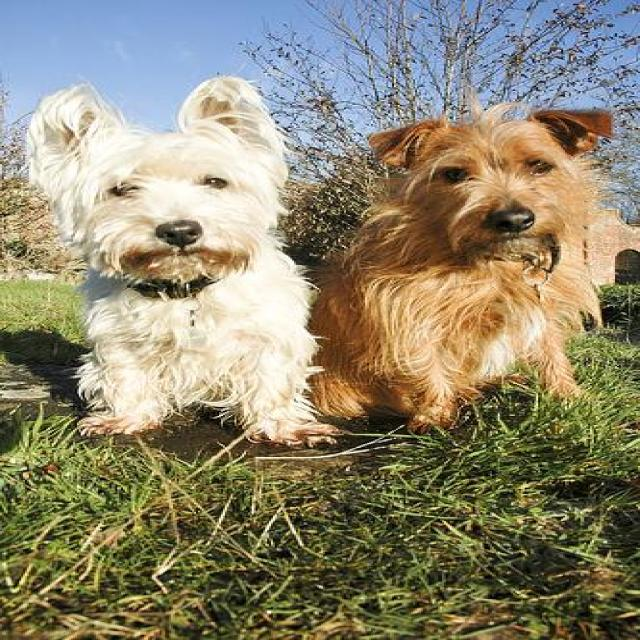dog: (30, 69, 626, 461)
